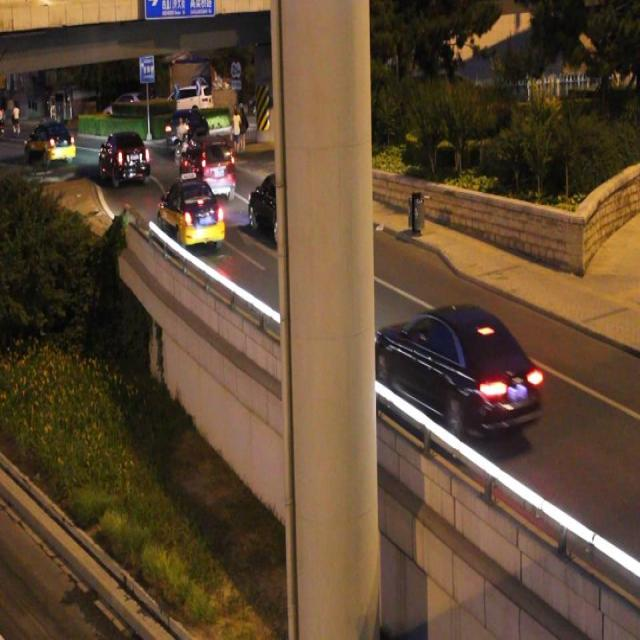car: (374, 303, 542, 435), (247, 170, 320, 248), (156, 172, 226, 250), (180, 132, 236, 199)
